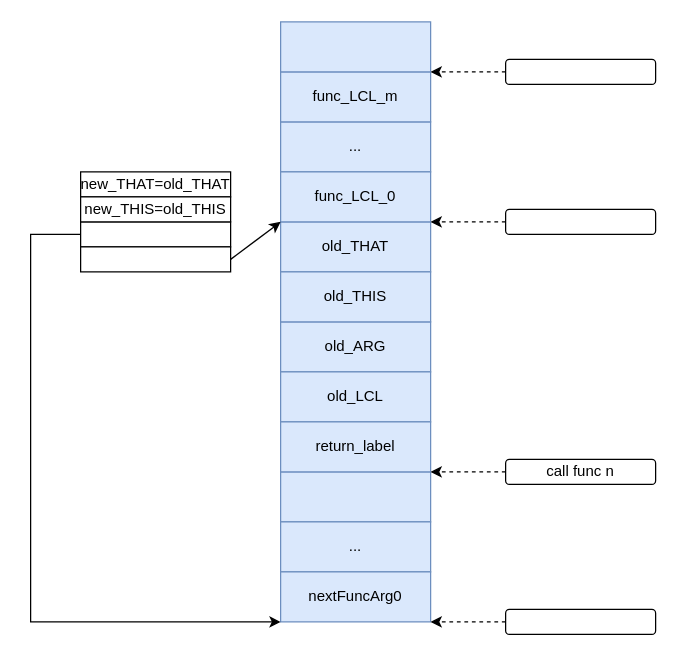
The diagram is 678 pixels wide and 656 high, and some of its shapes have lost their labels. Here are the shapes that lost their labels. From the top down, the box of each, then its label:
(504, 58, 656, 84): func_label+1
(79, 221, 231, 247): new_ARG
(504, 208, 656, 234): func_label m
(79, 246, 231, 272): new_LCL
(279, 471, 431, 522): nextFuncArgn
(504, 608, 656, 634): push funcArgs
